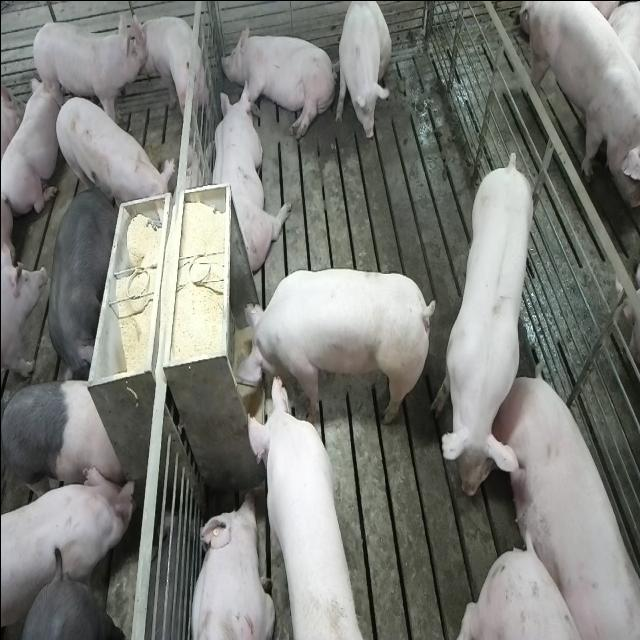Feeding: (233, 269, 438, 429), (246, 365, 364, 633)
Lateral_lying: (220, 21, 336, 141)
Sitting: (334, 0, 390, 145)
Standing: (434, 148, 538, 492), (523, 0, 640, 207), (2, 456, 134, 637), (1, 378, 126, 506), (50, 95, 172, 216), (46, 182, 117, 380), (28, 16, 145, 131), (133, 15, 204, 130)
Sternal_lying: (208, 79, 286, 274), (185, 492, 272, 640), (3, 72, 61, 220)
